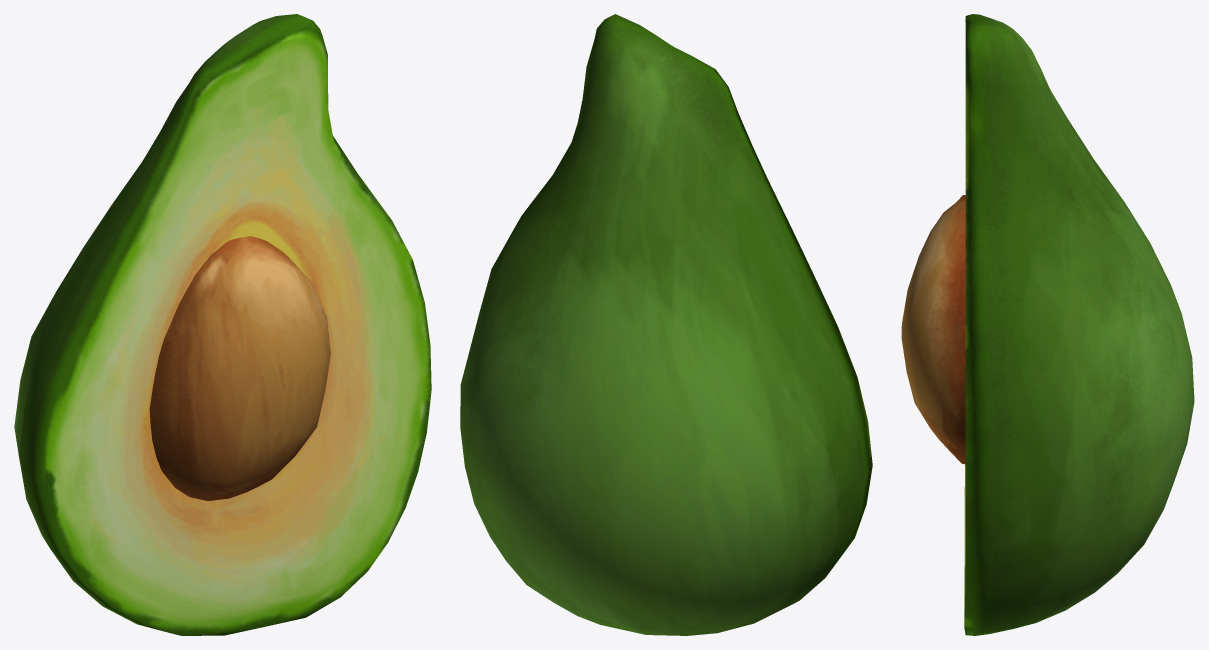
Rendered from avocado_light.gltf.
The picture shows the model from 3 angles, left to right: view 1: azimuth 30°, elevation 25°; view 2: azimuth 150°, elevation 25°; view 3: azimuth 270°, elevation 25°; orthographic projection. The views are drawn at different scales.
Parts seen in each view (by area): view 1: Avocado; view 2: Avocado; view 3: Avocado.
Part boxes in pixels (x1,y1,x2,y2): Avocado: (14,14,431,635); Avocado: (460,14,872,635); Avocado: (901,14,1194,635).
Bounding box in the file's own units: 0.0426 × 0.0629 × 0.0276.
Materials: 1 (1 with a texture image).
